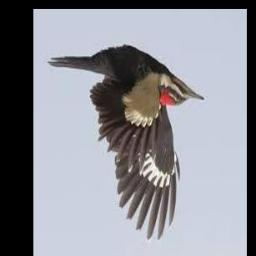Woodpecker: (48, 47, 205, 240)
